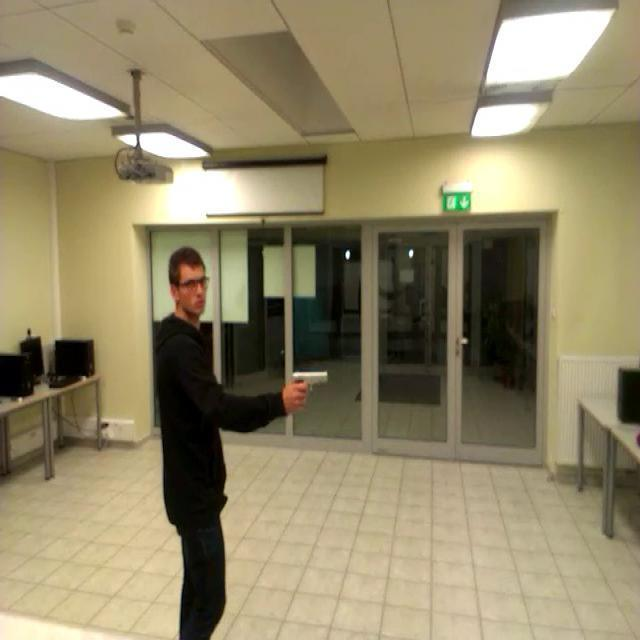gun: (292, 369, 327, 411)
